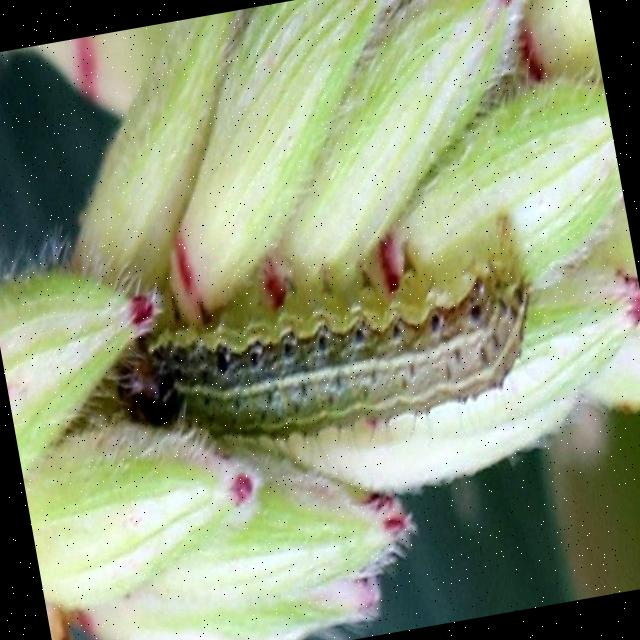worm: (1, 1, 640, 640), (104, 214, 553, 474)
